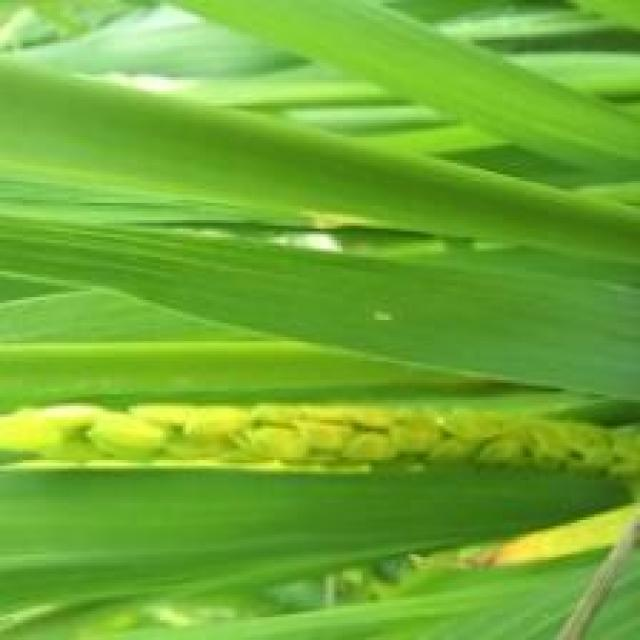HealthyLeaf: (8, 71, 637, 253), (109, 234, 635, 391), (10, 472, 562, 604), (220, 2, 616, 159)
